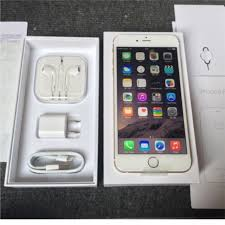iphone: (110, 31, 191, 174)
iphone6: (111, 32, 192, 175)
